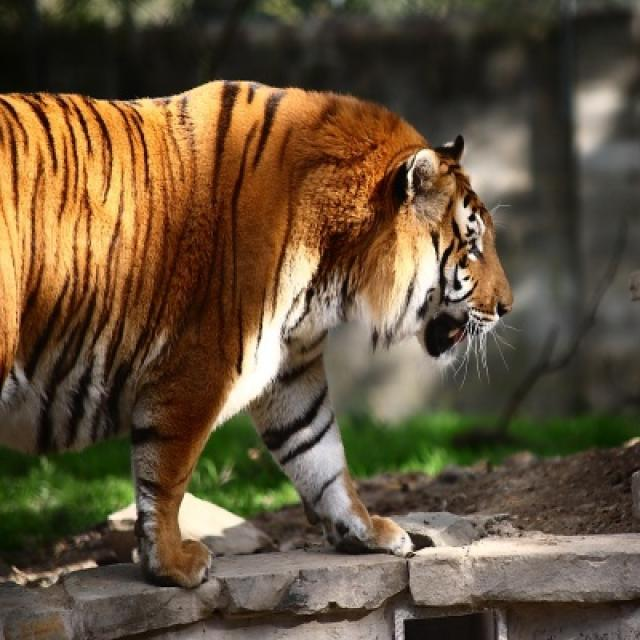Tiger: (0, 86, 506, 588)
